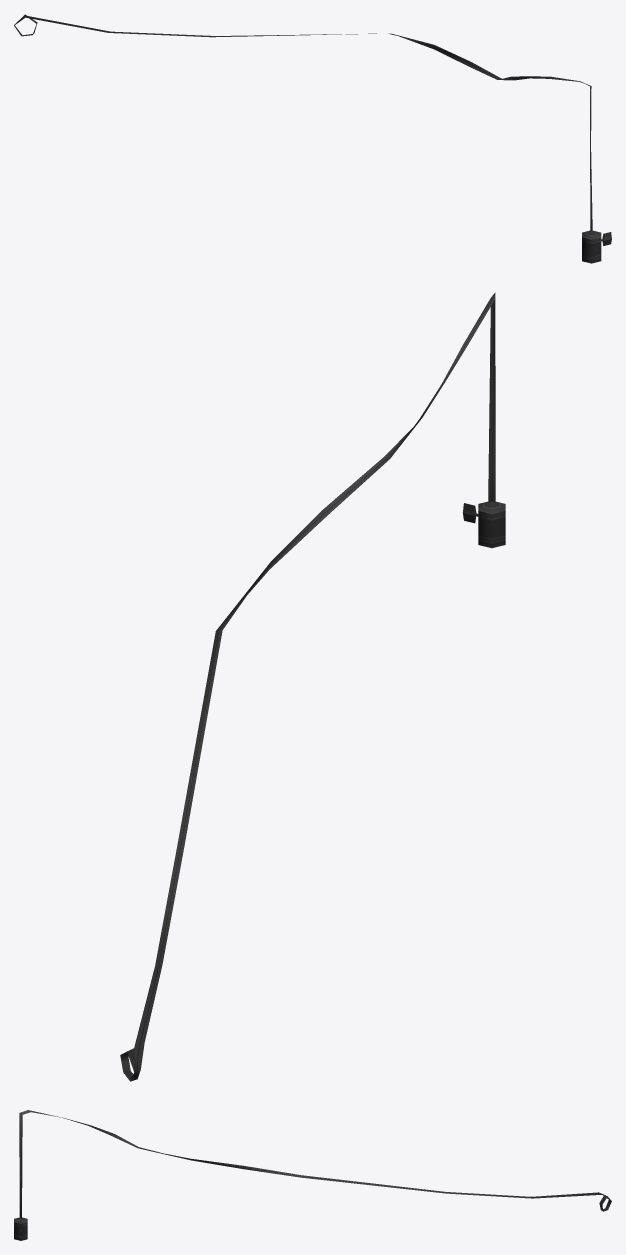
Rendered from jsf_4P_Light_s02_c.fbx.
3 renders of one model, top to bottom at view 1: azimuth 30°, elevation 25°; view 2: azimuth 150°, elevation 25°; view 3: azimuth 270°, elevation 25°, orthographic. The views are drawn at different scales.
Parts seen in each view (by area): view 1: jsf_4P_Light_s02_c; view 2: jsf_4P_Light_s02_c; view 3: jsf_4P_Light_s02_c.
Part boxes in pixels (box(x1,y1,x2,y2)): jsf_4P_Light_s02_c: box(14, 14, 611, 263); jsf_4P_Light_s02_c: box(120, 292, 505, 1081); jsf_4P_Light_s02_c: box(14, 1110, 611, 1240).
Bounding box in the file's own units: 31.67 × 34.87 × 124.
